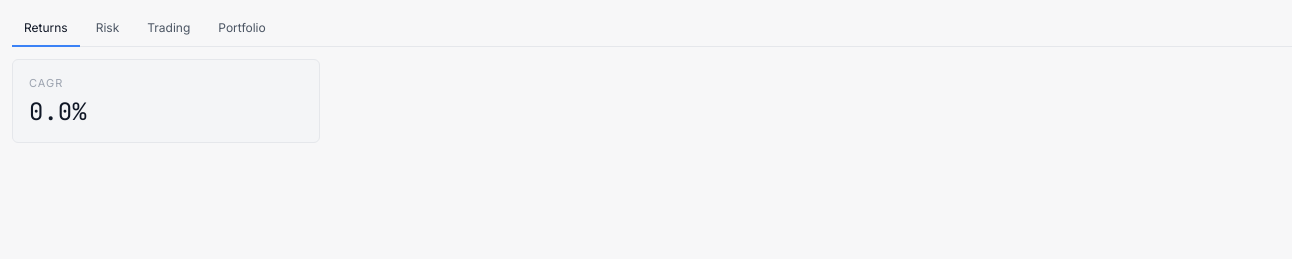
KpiCards › formats a positive Sharpe
Click the tab "Risk".
click(108, 29)  # box [84, 12, 131, 47]
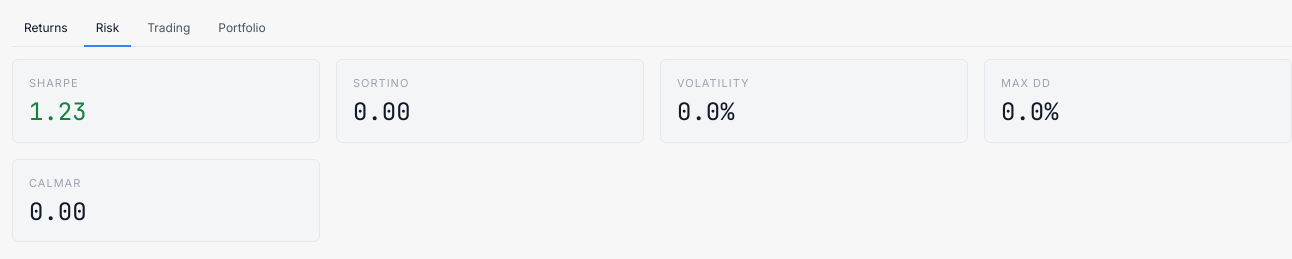
Check: the text "Sharpe" is shown, box [29, 76, 78, 90]
Check: the text "1.23" is shown, box [29, 96, 87, 127]
